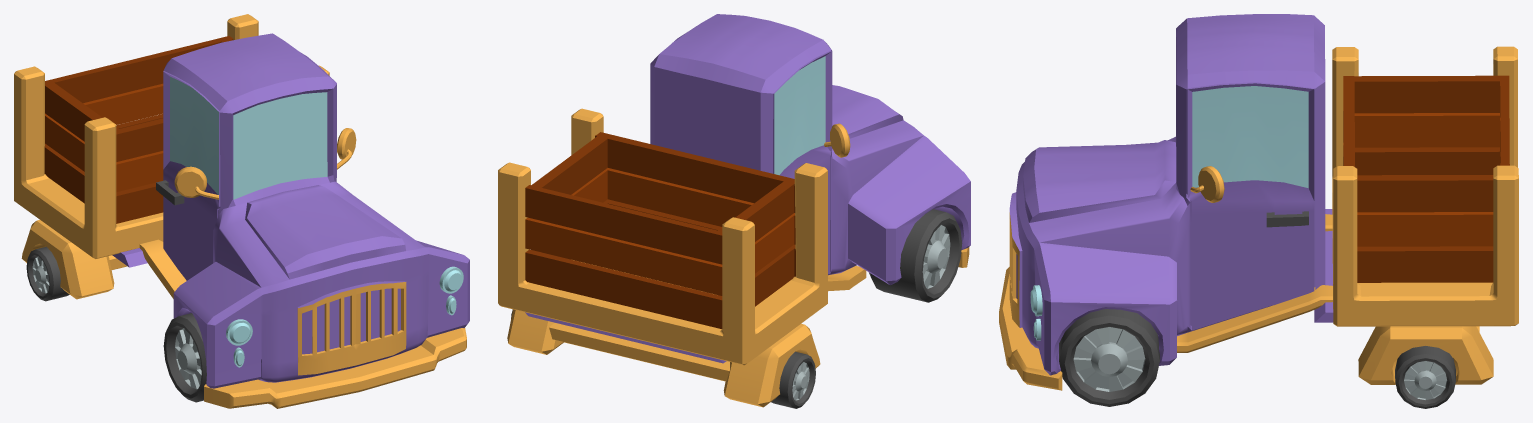
The model's file is _ood_truck.fbx.
3 renders of one model, left to right at view 1: azimuth 30°, elevation 25°; view 2: azimuth 150°, elevation 25°; view 3: azimuth 270°, elevation 25°, orthographic. The views are drawn at different scales.
Visible parts, largest first — view 1: wood_truck; view 2: wood_truck; view 3: wood_truck.
Part boxes in pixels (bbox=[...]): wood_truck: bbox=[14, 14, 469, 408]; wood_truck: bbox=[498, 14, 970, 408]; wood_truck: bbox=[999, 14, 1518, 408].
Size of the model in its own units: 45.32 by 42.73 by 66.52.
